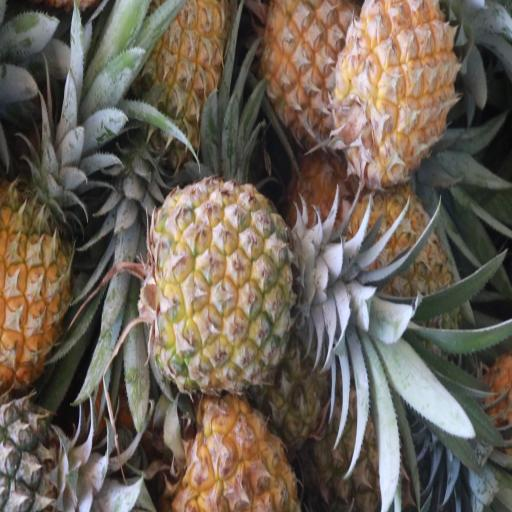------------------------------: (145, 178, 297, 386), (338, 190, 454, 360), (265, 0, 358, 162)
Pineapple - v8 v1: (336, 0, 455, 181), (0, 198, 77, 398), (169, 398, 297, 512), (141, 0, 226, 168)
